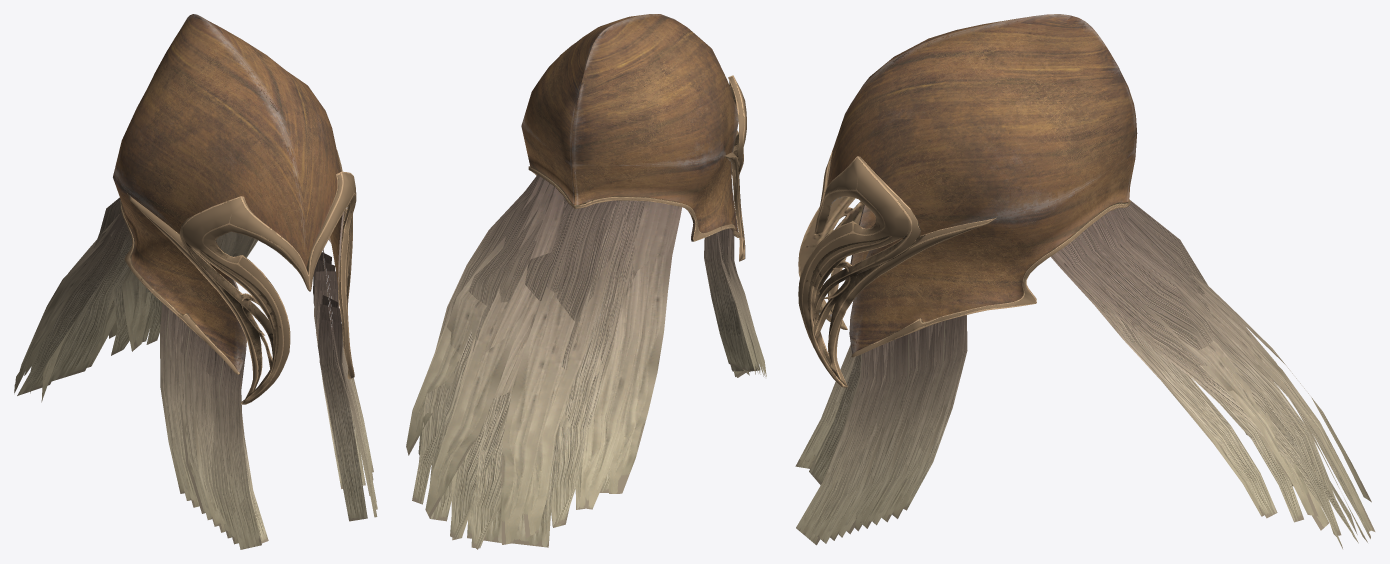
The model's file is mkwd_inf3_t2_helmet_gold_hc.fbx.
3 views of the same model, side by side, from view 1: azimuth 30°, elevation 25°; view 2: azimuth 150°, elevation 25°; view 3: azimuth 270°, elevation 25° (orthographic). The views are drawn at different scales.
Visible parts, largest first — view 1: mkwd_inf3_t2_helmet_gold_hc.lod0.0, mkwd_inf3_t2_helmet_gold_hc.lod0.1; view 2: mkwd_inf3_t2_helmet_gold_hc.lod0.1, mkwd_inf3_t2_helmet_gold_hc.lod0.0; view 3: mkwd_inf3_t2_helmet_gold_hc.lod0.0, mkwd_inf3_t2_helmet_gold_hc.lod0.1.
Part boxes in pixels (x1,y1,x2,y2): mkwd_inf3_t2_helmet_gold_hc.lod0.0: [113, 14, 356, 404]; mkwd_inf3_t2_helmet_gold_hc.lod0.1: [14, 197, 377, 549]; mkwd_inf3_t2_helmet_gold_hc.lod0.1: [406, 175, 766, 549]; mkwd_inf3_t2_helmet_gold_hc.lod0.0: [521, 14, 746, 261]; mkwd_inf3_t2_helmet_gold_hc.lod0.0: [798, 14, 1137, 387]; mkwd_inf3_t2_helmet_gold_hc.lod0.1: [795, 200, 1375, 548].
Size of the model in its own units: 0.239 by 0.4828 by 0.4751.
2 materials, 2 textured.
